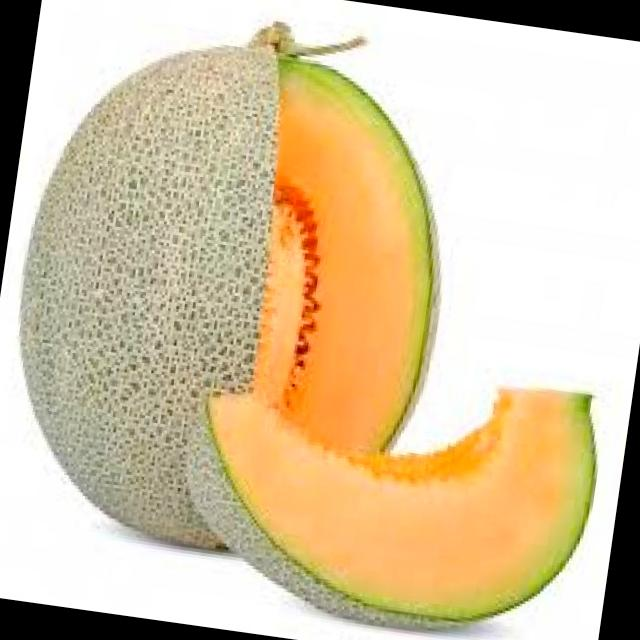Hami Melon: (0, 19, 471, 578), (167, 341, 606, 640)
